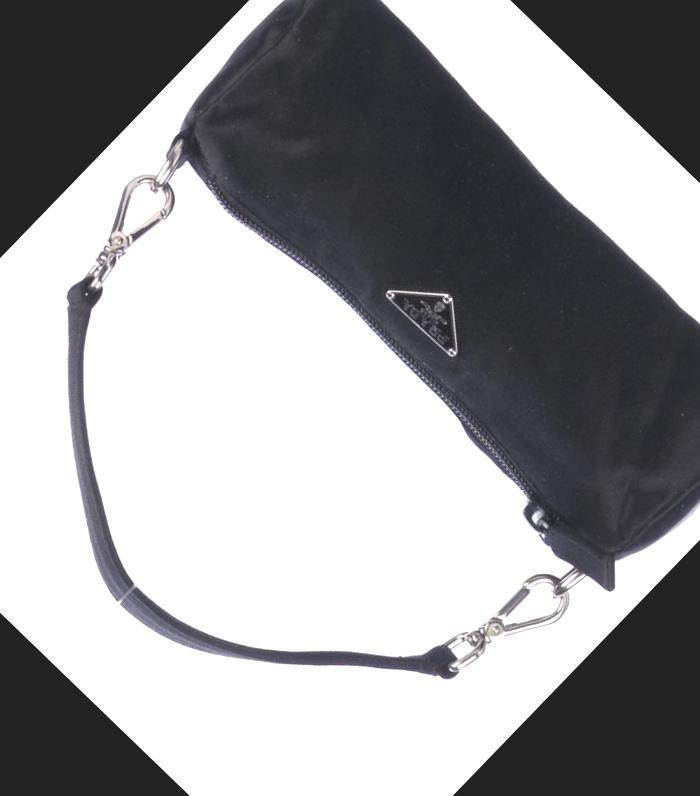PRADA: (383, 261, 482, 360)
